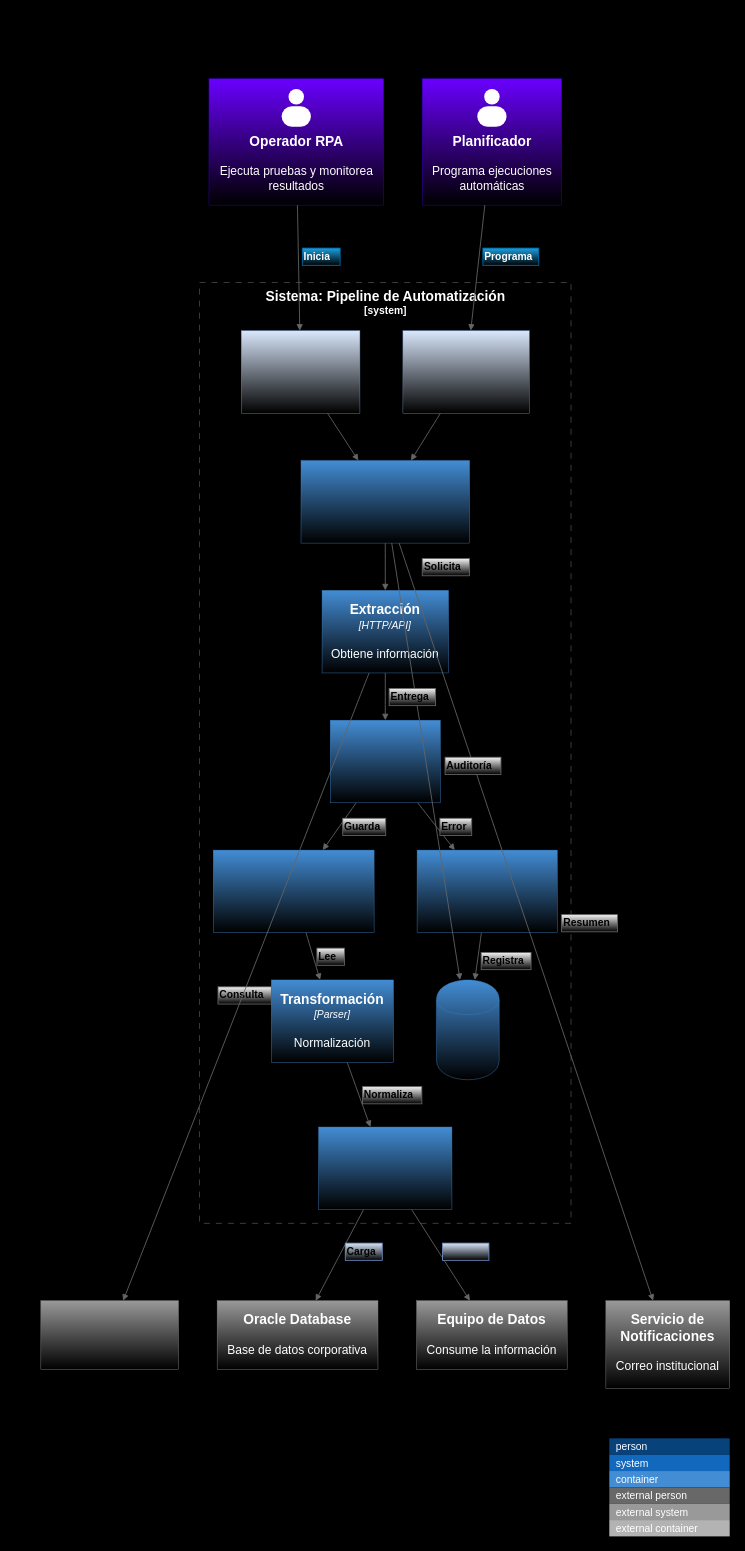
Image size: 745x1551. Some labels were removed from this diagram. The centre of each missing label's shape, as x and y in pixels:
"Fuentes Externas INEC, BCE, Ministerios" goes at (x=109, y=1334).
"Gestión de Errores [n8n] Reintentos y respaldo" goes at (x=486, y=891).
"Integración ETL [ETL] Consolida resultados" goes at (x=385, y=1167).
"Logs [SQLite] Historial" goes at (x=467, y=1029).
"Motor de Orquestación [n8n] Controla el flujo" goes at (x=384, y=501).
"Programador [n8n] Ejecución periódica" goes at (x=465, y=371).
"Publica" goes at (x=465, y=1251).
"Repositorio Temporal [Storage] Archivos originales" goes at (x=293, y=891).
"Trigger Manual [n8n] Inicio manual" goes at (x=300, y=371).
"Validación [n8n] Verifica archivos" goes at (x=385, y=761).
